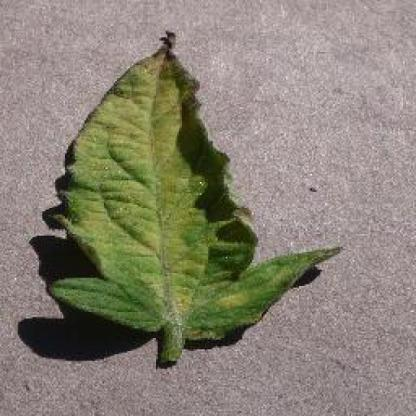Tomato_Leaf_Mold: (42, 32, 341, 338)
